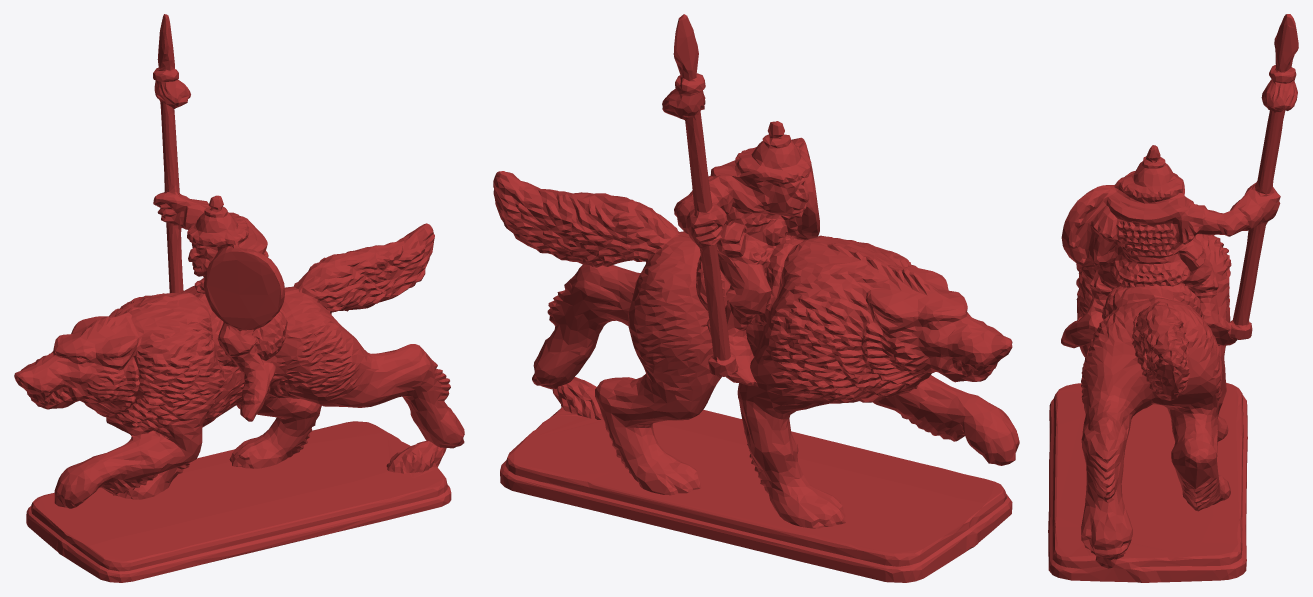
The model's file is wolf_rider.glb.
The picture shows the model from 3 angles, left to right: view 1: azimuth 30°, elevation 25°; view 2: azimuth 150°, elevation 25°; view 3: azimuth 270°, elevation 25°; orthographic projection. The views are drawn at different scales.
Parts seen in each view (by area): view 1: goblin_wolf_rider-complete; view 2: goblin_wolf_rider-complete; view 3: goblin_wolf_rider-complete.
Boxes of the visible parts, bbox=[...] form: goblin_wolf_rider-complete: bbox=[14, 14, 464, 582]; goblin_wolf_rider-complete: bbox=[493, 14, 1019, 582]; goblin_wolf_rider-complete: bbox=[1048, 14, 1298, 582].
Bounding box in the file's own units: 32.32 × 32.78 × 15.74.
